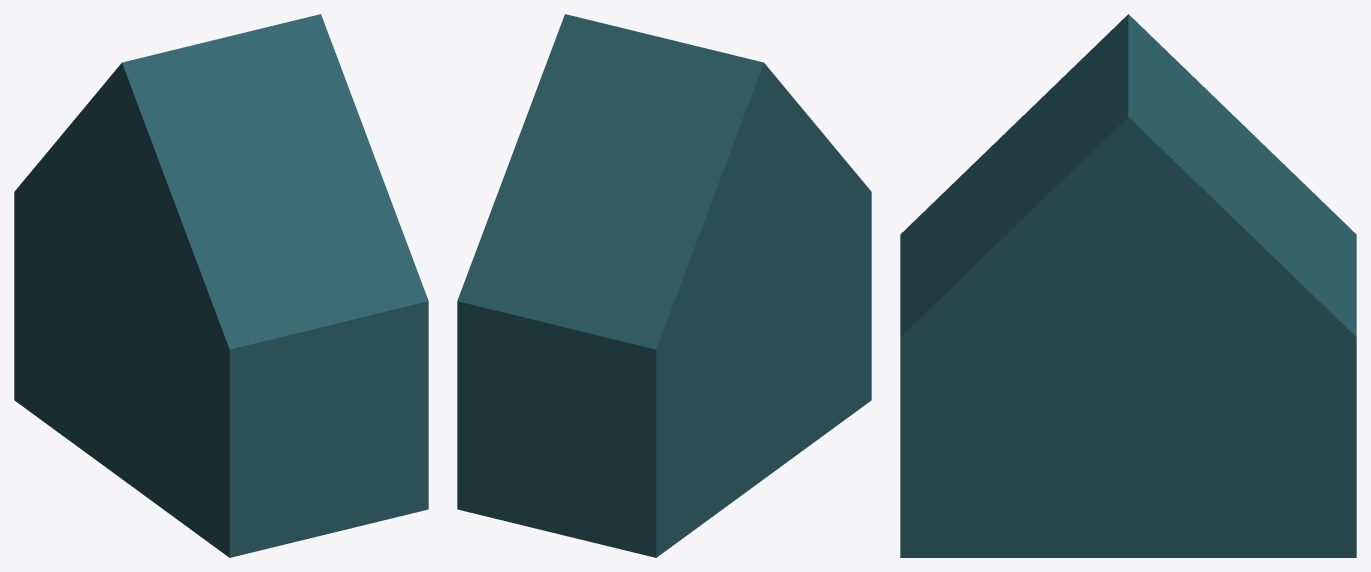
File: house.glb
3 renders of one model, left to right at view 1: azimuth 30°, elevation 25°; view 2: azimuth 150°, elevation 25°; view 3: azimuth 270°, elevation 25°, orthographic. The views are drawn at different scales.
Parts seen in each view (by area): view 1: Cube, 큐브; view 2: Cube, 큐브; view 3: Cube, 큐브.
Boxes of the visible parts, left/top/right/bottom form: Cube: left=14, top=192, right=428, bottom=557; 큐브: left=14, top=14, right=428, bottom=349; Cube: left=457, top=192, right=871, bottom=557; 큐브: left=457, top=14, right=871, bottom=349; Cube: left=900, top=337, right=1356, bottom=557; 큐브: left=900, top=14, right=1356, bottom=337.
Size of the model in its own units: 0.9599 by 1.92 by 1.8.
